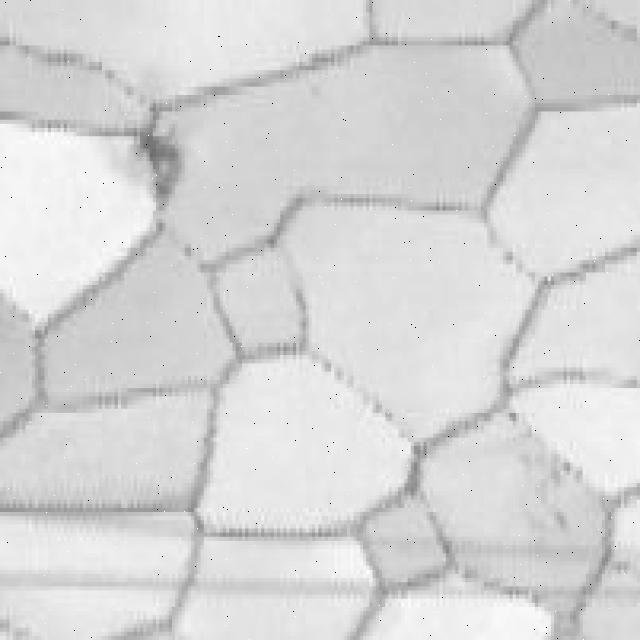good_void: (135, 125, 188, 210)
